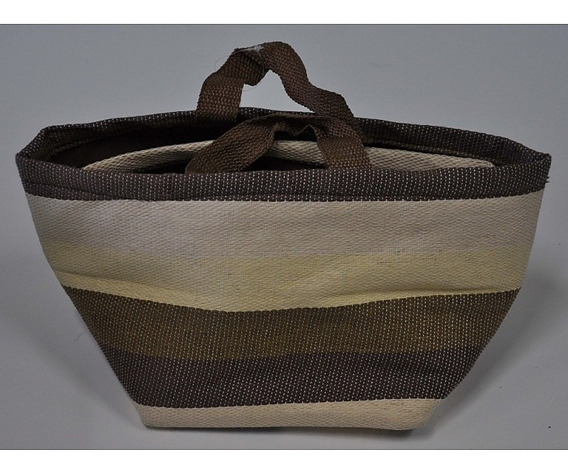cartera: (17, 42, 553, 433)
